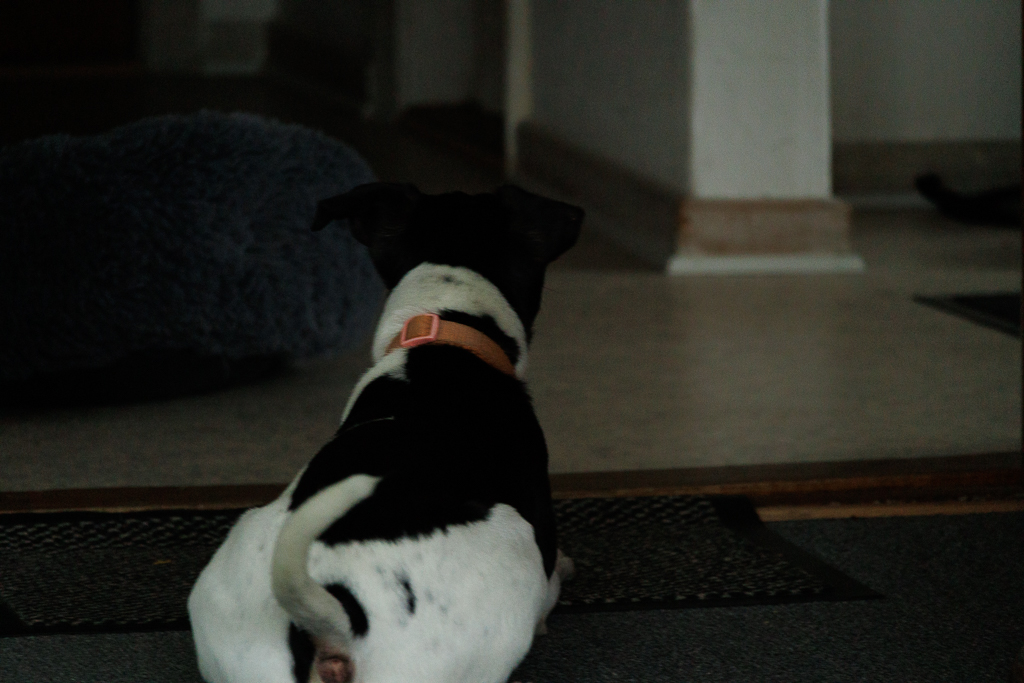Dog: (177, 170, 595, 683)
